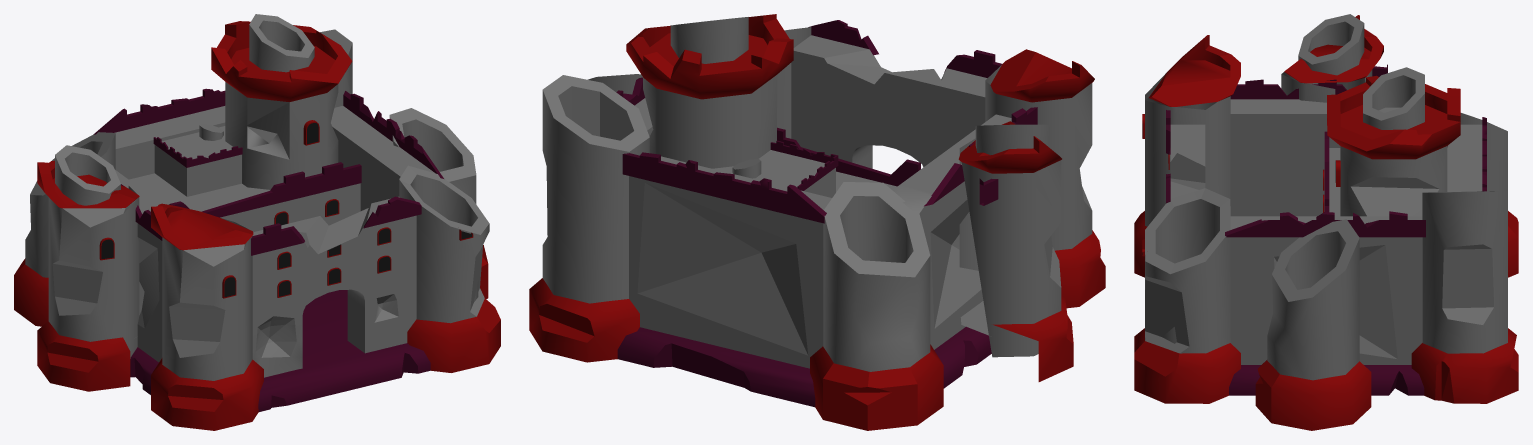
Rendered from Evil_Castle_Upgrade2_Stage3.fbx.
The picture shows the model from 3 angles, left to right: view 1: azimuth 30°, elevation 25°; view 2: azimuth 150°, elevation 25°; view 3: azimuth 270°, elevation 25°; orthographic projection. The views are drawn at different scales.
Parts seen in each view (by area): view 1: Evil_Castle_Upgrade2_Stage_3; view 2: Evil_Castle_Upgrade2_Stage_3; view 3: Evil_Castle_Upgrade2_Stage_3.
Boxes of the visible parts, left/top/right/bottom form: Evil_Castle_Upgrade2_Stage_3: left=14, top=14, right=500, bottom=430; Evil_Castle_Upgrade2_Stage_3: left=529, top=14, right=1105, bottom=430; Evil_Castle_Upgrade2_Stage_3: left=1134, top=14, right=1518, bottom=430.
Bounding box in the file's own units: 1091 × 647 × 832.
Materials: 1 (1 with a texture image).
